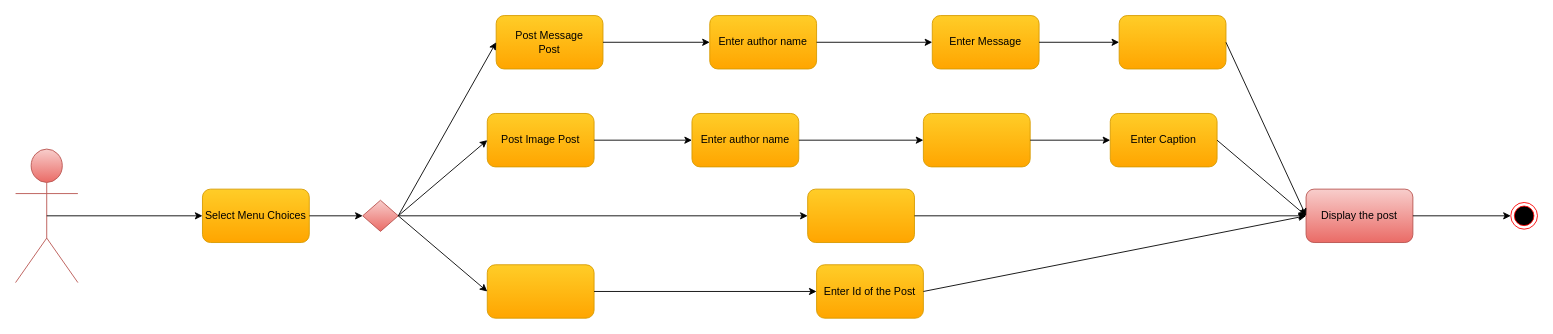
Some shapes in this 1553 by 334 pixel diagram are drawn without their labels. The centre of each missing label's shape, as x and y in pixels:
Display All posts: the point at 860,215
Enter Image name: the point at 976,140
Post Added: the point at 1172,42
Remove a post: the point at 540,291
User: the point at 46,215
